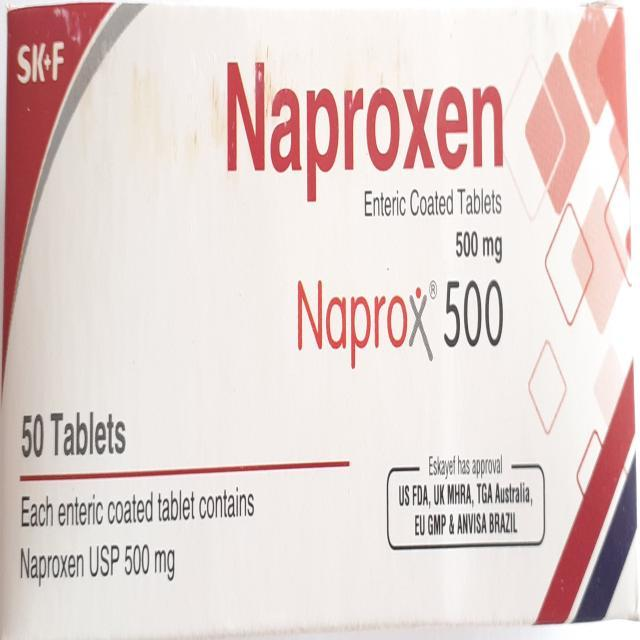drug-name: (292, 274, 504, 371)
